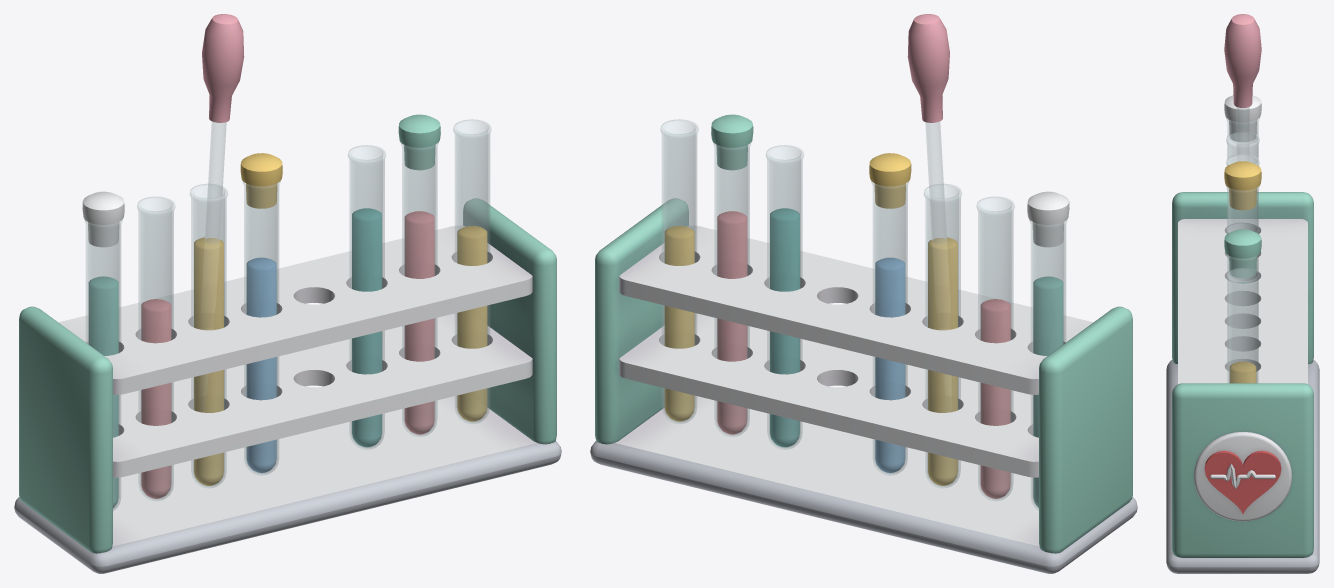
Rendered from test-tube-rack.glb.
3 views of the same model, side by side, from view 1: azimuth 30°, elevation 25°; view 2: azimuth 150°, elevation 25°; view 3: azimuth 270°, elevation 25° (orthographic). The views are drawn at different scales.
Visible parts, largest first — view 1: test-tube-rack_body, test-tube-rack_tubes_glass, test-tube-rack_liquid_fluid; view 2: test-tube-rack_body, test-tube-rack_tubes_glass, test-tube-rack_liquid_fluid; view 3: test-tube-rack_body, test-tube-rack_tubes_glass, test-tube-rack_liquid_fluid.
Boxes of the visible parts, x1=… form: test-tube-rack_body: x1=14, y1=14, x2=561, y2=573; test-tube-rack_tubes_glass: x1=84, y1=119, x2=491, y2=510; test-tube-rack_liquid_fluid: x1=88, y1=208, x2=487, y2=507; test-tube-rack_body: x1=590, y1=14, x2=1137, y2=573; test-tube-rack_tubes_glass: x1=660, y1=119, x2=1067, y2=510; test-tube-rack_liquid_fluid: x1=664, y1=208, x2=1063, y2=507; test-tube-rack_body: x1=1166, y1=14, x2=1319, y2=573; test-tube-rack_tubes_glass: x1=1226, y1=107, x2=1259, y2=383; test-tube-rack_liquid_fluid: x1=1229, y1=361, x2=1256, y2=383.
Bounding box in the file's own units: 0.2551 × 0.2496 × 0.08.
Materials: 7 (1 with a texture image).
